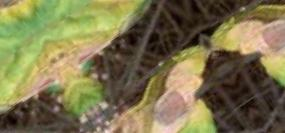Tomato Early blight leaf: (8, 0, 205, 114), (97, 44, 277, 133)
